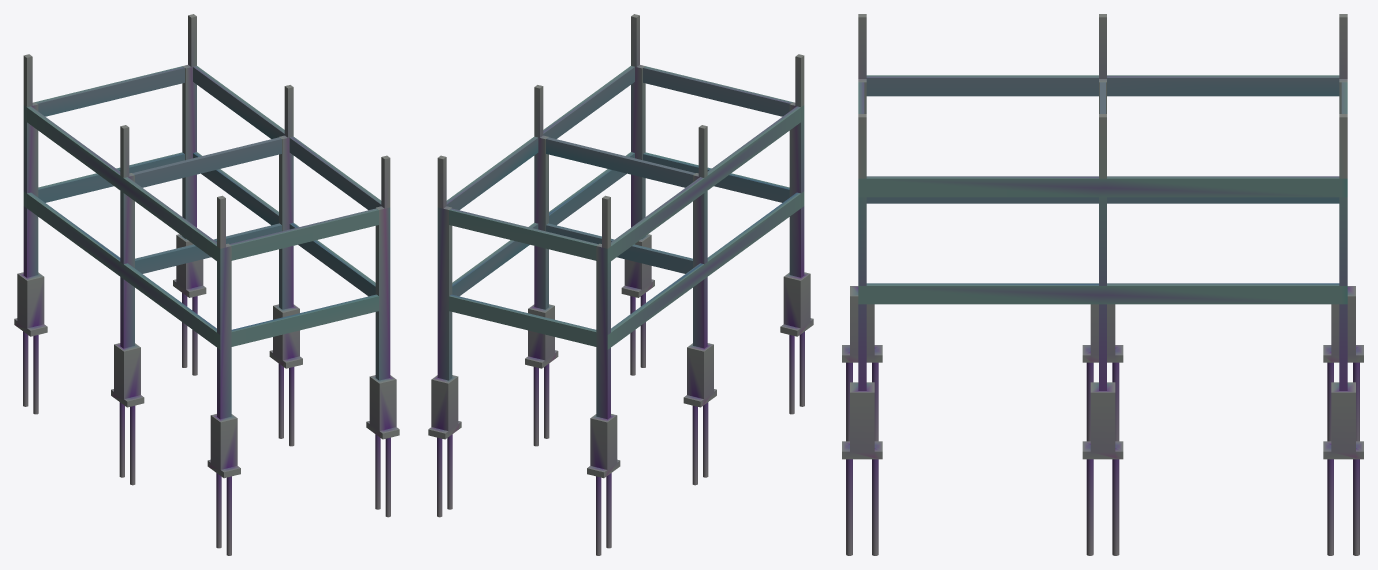
The picture shows the model from 3 angles, left to right: view 1: azimuth 30°, elevation 25°; view 2: azimuth 150°, elevation 25°; view 3: azimuth 270°, elevation 25°; orthographic projection. The views are drawn at different scales.
Parts seen in each view (by area): view 1: side_rail.002, side_rail.001, sleeve.001, sleeve, sleeve.004, sleeve.002, sleeve.003, sleeve.005; view 2: side_rail.002, side_rail.001, sleeve.005, sleeve.004, sleeve, sleeve.002, sleeve.003, sleeve.001; view 3: side_rail.002, side_rail.001, sleeve.003, sleeve.001, sleeve.005, sleeve, sleeve.004, sleeve.002.
Boxes of the visible parts, bbox=[...] form: side_rail.002: bbox=[23, 66, 381, 263]; side_rail.001: bbox=[23, 152, 378, 349]; sleeve.001: bbox=[366, 155, 399, 517]; sleeve: bbox=[207, 195, 240, 555]; sleeve.004: bbox=[14, 54, 47, 414]; sleeve.002: bbox=[111, 125, 144, 485]; sleeve.003: bbox=[269, 85, 302, 446]; sleeve.005: bbox=[173, 14, 206, 375]; side_rail.002: bbox=[446, 66, 804, 263]; side_rail.001: bbox=[449, 152, 804, 349]; sleeve.005: bbox=[428, 155, 461, 517]; sleeve.004: bbox=[587, 195, 620, 555]; sleeve: bbox=[780, 54, 813, 414]; sleeve.002: bbox=[683, 125, 716, 485]; sleeve.003: bbox=[525, 85, 558, 446]; sleeve.001: bbox=[621, 14, 654, 375]; side_rail.002: bbox=[858, 75, 1347, 197]; side_rail.001: bbox=[858, 197, 1347, 304]; sleeve.003: bbox=[1082, 114, 1123, 555]; sleeve.001: bbox=[842, 114, 882, 555]; sleeve.005: bbox=[1323, 114, 1363, 555]; sleeve: bbox=[842, 14, 882, 441]; sleeve.004: bbox=[1323, 14, 1363, 441]; sleeve.002: bbox=[1082, 14, 1123, 441].
Size of the model in its own units: 1.45 by 2.8 by 3.
